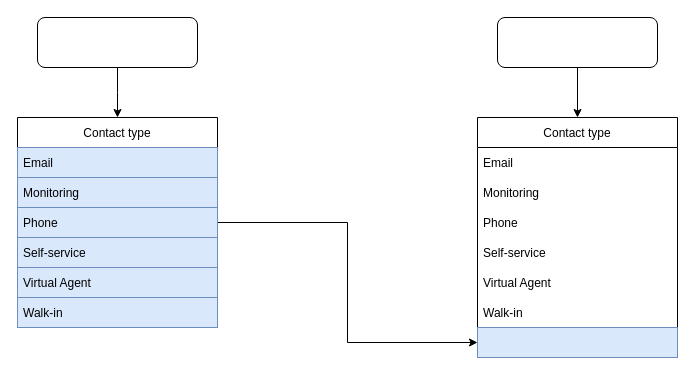
Some shapes in this 695 by 375 pixel diagram are drawn without their labels. Each missing label, with the centre of its shape:
API: (x=577, y=342)
Customer Instance (Company B): (x=577, y=42)
Vendor Instance (Company A): (x=117, y=42)
